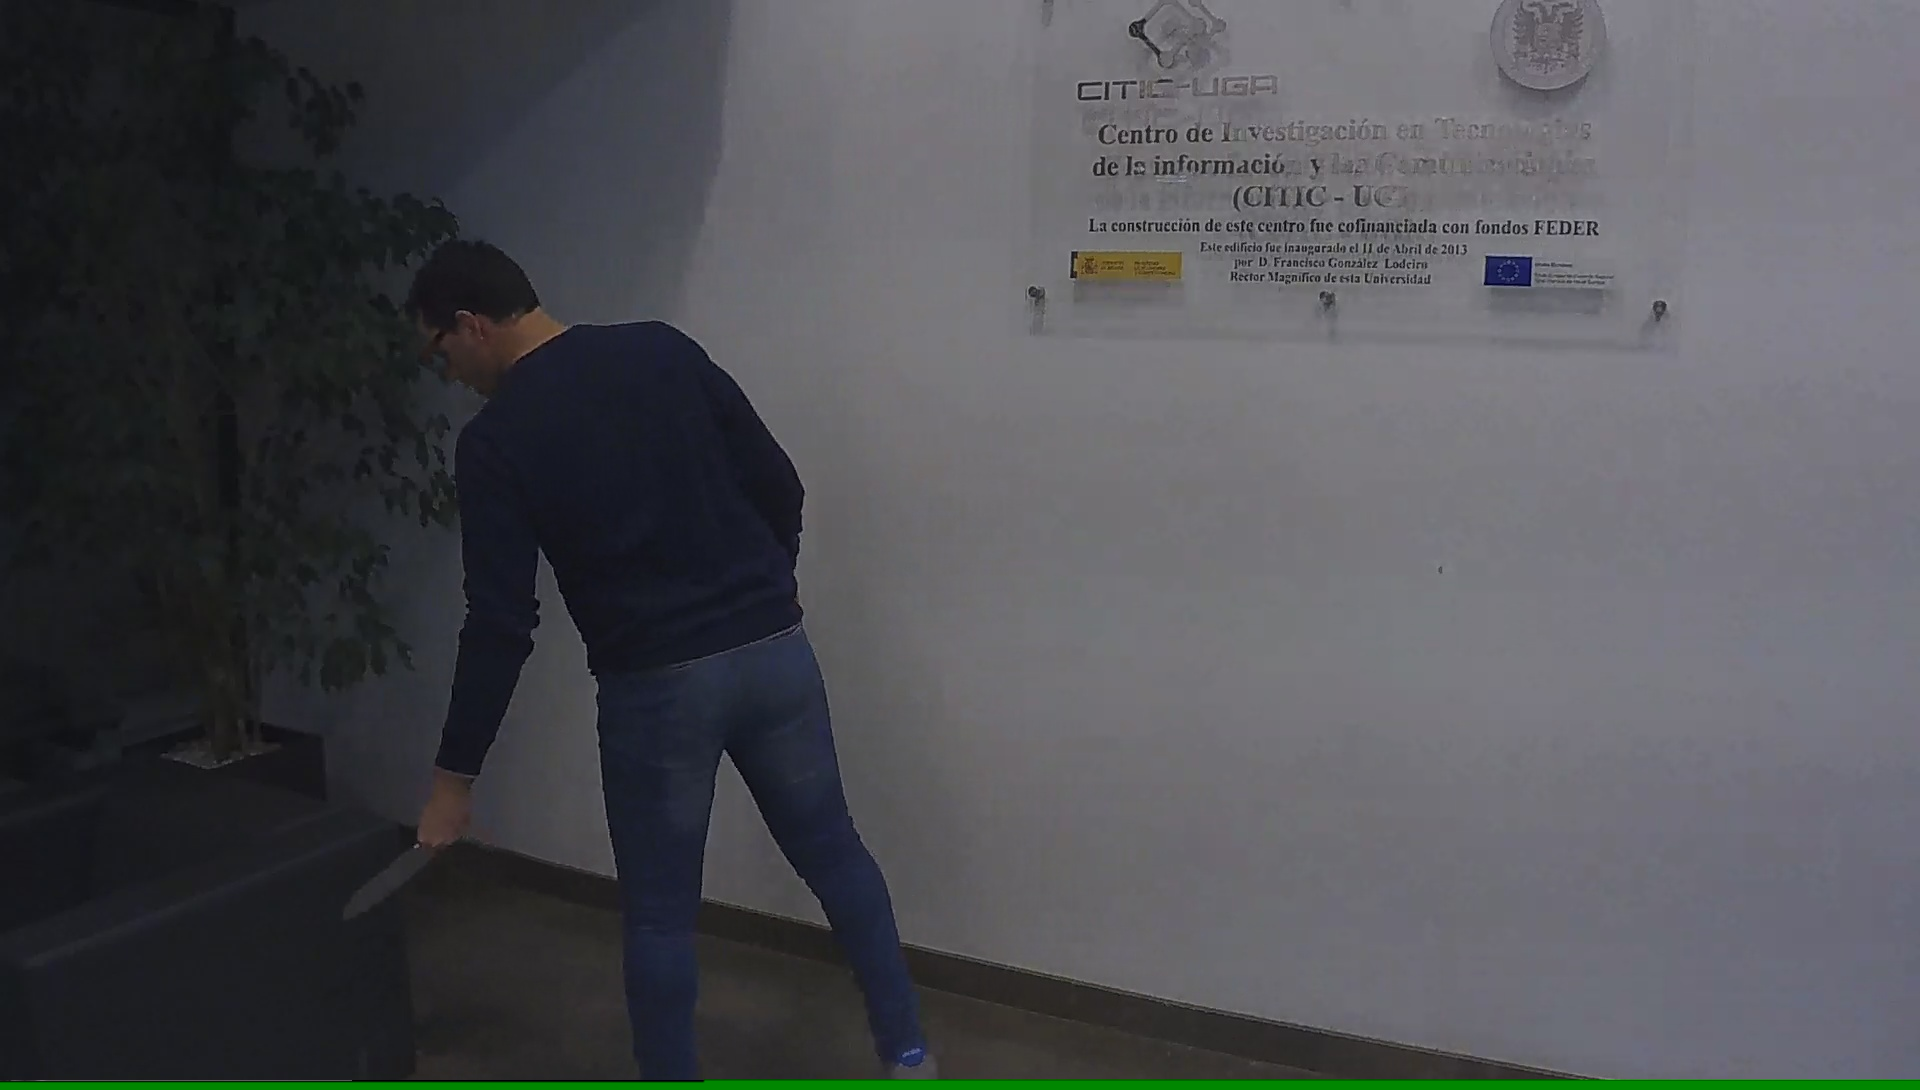knife: (334, 807, 468, 928)
